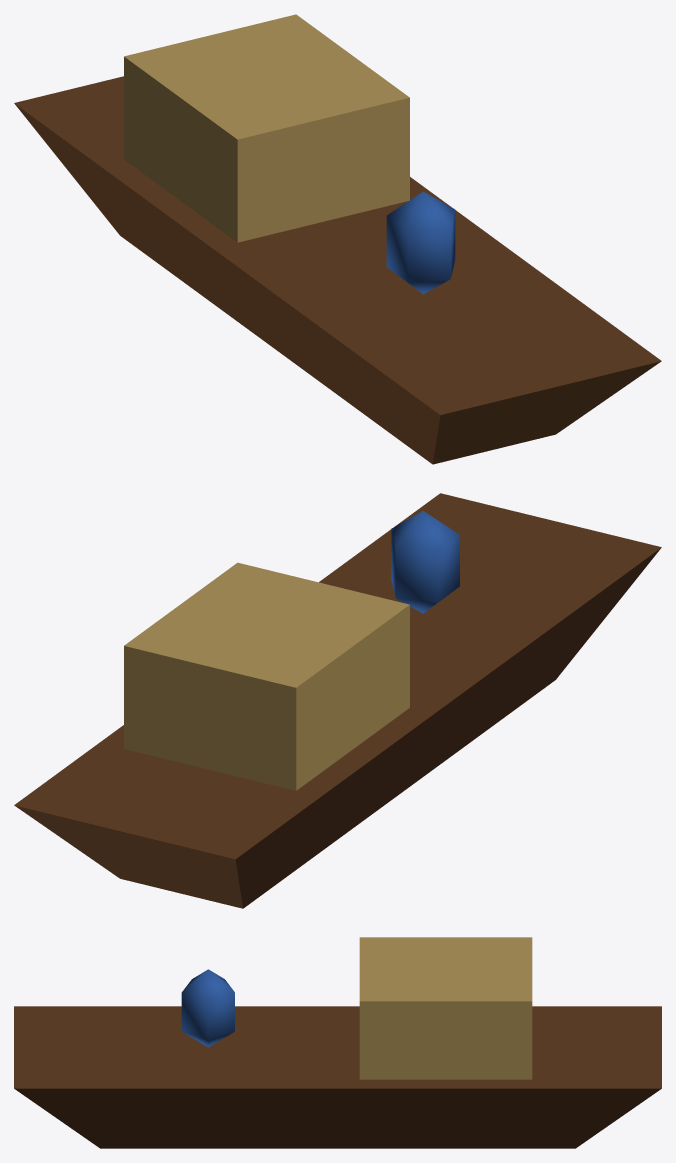
Rendered from vehicle_perahu.glb.
The picture shows the model from 3 angles, top to bottom: view 1: azimuth 30°, elevation 25°; view 2: azimuth 150°, elevation 25°; view 3: azimuth 270°, elevation 25°; orthographic projection. The views are drawn at different scales.
Visible parts, largest first — view 1: vehicle_perahu; view 2: vehicle_perahu; view 3: vehicle_perahu.
Boxes of the visible parts, x1,y1,x2,y2 form: vehicle_perahu: (14, 14, 661, 464); vehicle_perahu: (14, 493, 661, 908); vehicle_perahu: (14, 937, 661, 1148).
Bounding box in the file's own units: 0.09 × 0.08 × 0.3.
